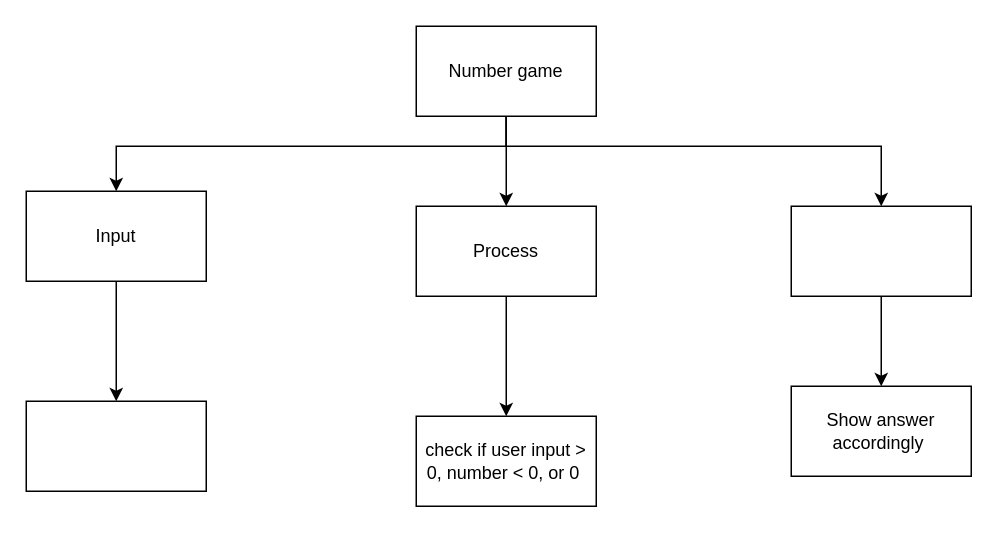
Some shapes in this 998 by 533 pixel diagram are drawn without their labels. The centre of each missing label's shape, as x and y in pixels:
"Get integer from user" goes at (x=115, y=445).
"Output" goes at (x=880, y=250).
